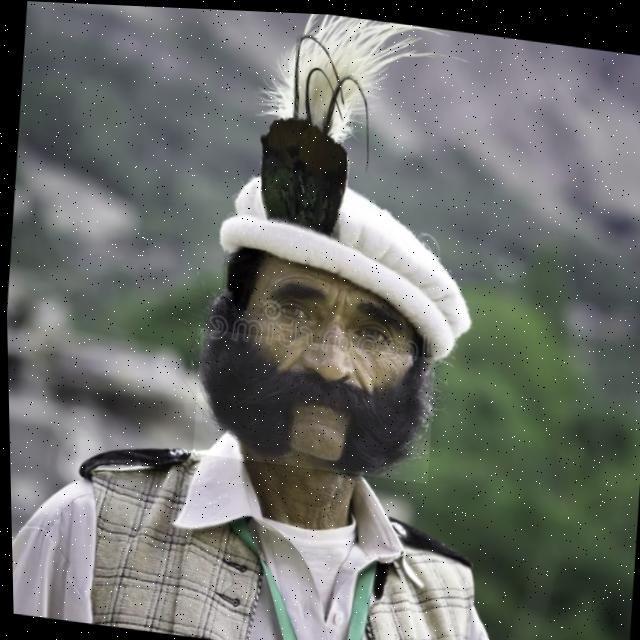beard: (196, 332, 429, 471)
hair: (222, 247, 264, 308)
